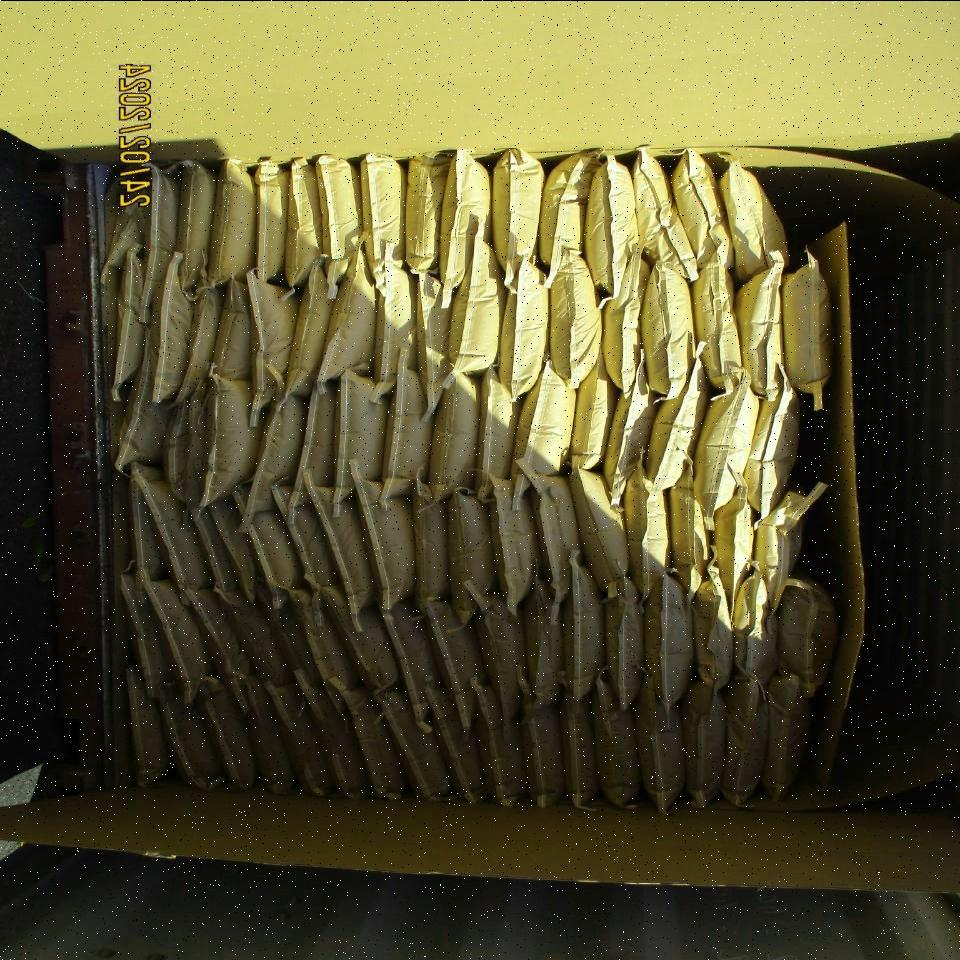bag: (183, 375, 269, 515), (448, 220, 510, 382), (142, 568, 218, 700), (750, 482, 827, 610), (137, 473, 212, 601), (692, 375, 761, 511), (744, 363, 802, 520), (465, 579, 527, 725), (233, 485, 305, 608), (644, 354, 709, 490), (298, 674, 369, 797), (318, 588, 400, 693), (115, 327, 176, 468), (182, 586, 250, 712), (719, 153, 786, 279), (602, 352, 657, 505), (633, 149, 698, 278), (310, 484, 373, 617), (376, 688, 451, 799), (247, 270, 300, 426), (639, 262, 699, 399), (291, 591, 360, 710), (526, 466, 585, 605), (317, 248, 378, 382), (441, 148, 493, 305), (355, 470, 414, 608), (512, 365, 576, 492), (425, 598, 487, 727), (379, 593, 440, 724), (781, 248, 836, 393), (381, 352, 436, 496), (622, 449, 674, 601), (568, 465, 629, 593), (636, 667, 688, 813), (267, 681, 333, 796), (548, 248, 603, 386), (331, 373, 391, 499), (499, 259, 553, 399), (538, 147, 602, 265), (736, 250, 787, 396), (490, 144, 542, 287), (692, 252, 747, 387), (584, 159, 638, 295), (600, 250, 652, 390), (252, 381, 308, 510), (671, 149, 733, 265), (120, 574, 176, 702), (777, 578, 837, 697), (426, 684, 486, 802), (157, 684, 223, 790), (373, 244, 418, 399), (217, 589, 291, 683), (344, 685, 405, 799), (255, 582, 322, 685), (275, 481, 339, 588), (446, 489, 497, 623), (474, 365, 525, 498), (284, 260, 335, 393), (195, 677, 255, 789), (148, 253, 193, 402), (177, 263, 225, 402), (643, 577, 695, 705), (488, 475, 537, 610), (667, 456, 714, 596), (593, 666, 640, 805), (138, 160, 178, 320), (413, 270, 459, 409), (316, 154, 365, 284), (475, 684, 525, 807), (723, 672, 770, 802), (401, 150, 451, 272), (208, 160, 258, 282), (431, 370, 479, 497), (361, 151, 405, 288), (521, 677, 567, 806), (522, 567, 565, 704), (682, 678, 728, 806), (246, 673, 295, 793), (732, 573, 779, 695), (124, 668, 173, 785), (109, 243, 145, 402), (603, 573, 645, 709), (710, 481, 755, 607), (764, 676, 810, 799), (563, 559, 604, 694), (570, 345, 613, 472), (292, 383, 336, 503), (413, 476, 452, 611), (210, 493, 259, 599), (694, 564, 736, 687), (175, 161, 215, 289), (102, 163, 148, 272), (285, 160, 325, 283), (124, 460, 164, 577), (559, 678, 595, 802), (255, 159, 289, 280), (213, 273, 252, 378), (193, 504, 237, 591), (162, 390, 192, 497)
